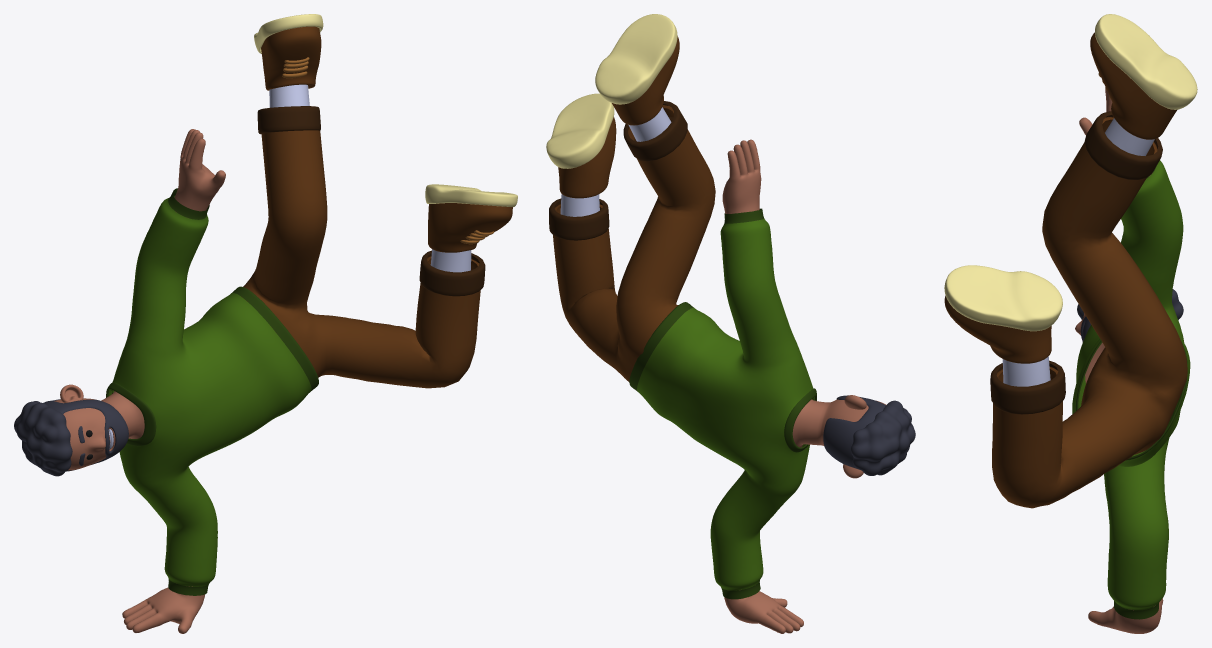
File: breakdancer.glb
3 renders of one model, left to right at view 1: azimuth 30°, elevation 25°; view 2: azimuth 150°, elevation 25°; view 3: azimuth 270°, elevation 25°, orthographic. The views are drawn at different scales.
Visible parts, largest first — view 1: Cylinder.082_primitive0, Cube.079, Cube.077, Cube.076, Mball.004, Cylinder.078, Cube.075, Cylinder.081, Cylinder.082_primitive1, Cylinder.076, Cylinder.080, Cube.078 (+2 smaller); view 2: Cylinder.082_primitive0, Cube.079, Cylinder.079, Cube.077, Cylinder.080, Mball.004, Cube.076, Cylinder.078, Cube.075, Cylinder.082_primitive1, Cube.078, Cylinder.081 (+2 smaller); view 3: Cube.079, Cylinder.082_primitive0, Cylinder.080, Cylinder.079, Cube.076, Cylinder.081, Cylinder.078, Cylinder.076, Cube.077, Cylinder.082_primitive1.
Part boxes in pixels (x1,y1,x2,y2): Cylinder.082_primitive0: (108,195,311,586); Cube.079: (241,130,480,388); Cube.077: (122,129,225,633); Cube.076: (257,106,485,296); Mball.004: (14,401,72,476); Cylinder.078: (428,203,512,252); Cube.075: (54,391,144,470); Cylinder.081: (261,26,321,90); Cylinder.082_primitive1: (168,188,318,595); Cylinder.076: (269,84,471,272); Cylinder.080: (425,184,517,207); Cube.078: (43,399,128,471); Cylinder.082_primitive0: (637,218,814,590); Cube.079: (553,105,715,381); Cylinder.079: (595,14,677,104); Cube.077: (722,139,803,633); Cylinder.080: (546,93,614,168); Mball.004: (851,400,915,475); Cube.076: (549,101,687,240); Cylinder.078: (558,117,616,198); Cube.075: (792,399,886,447); Cylinder.082_primitive1: (629,208,764,599); Cube.078: (823,395,885,469); Cylinder.081: (612,36,679,125); Cube.079: (992,117,1187,508); Cylinder.082_primitive0: (1072,160,1190,610); Cylinder.080: (944,265,1062,331); Cylinder.079: (1095,14,1197,109); Cube.076: (990,111,1162,414); Cylinder.081: (1090,32,1177,139); Cylinder.078: (944,295,1051,363); Cylinder.076: (1002,118,1154,386); Cube.077: (1079,88,1163,633); Cylinder.082_primitive1: (1075,166,1187,619).
Bounding box in the file's own units: 2.59 × 3.45 × 1.18.
